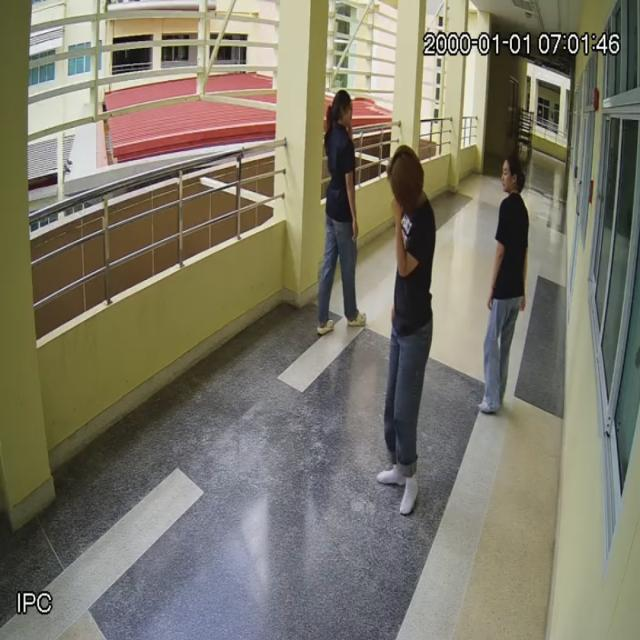normal: (378, 145, 436, 508), (481, 160, 528, 416), (319, 90, 364, 331)
